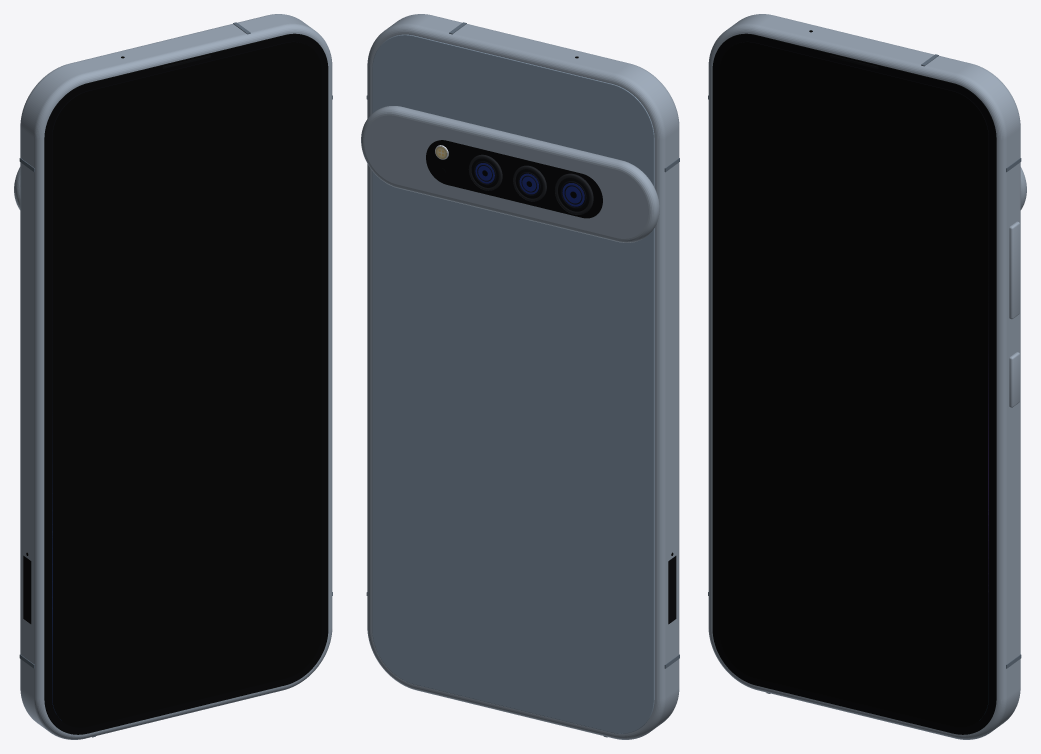
Rendered from nexphone-bar.glb.
3 renders of one model, left to right at view 1: azimuth 30°, elevation 25°; view 2: azimuth 150°, elevation 25°; view 3: azimuth 330°, elevation 25°, orthographic.
Bounding box in the file's own units: 0.7496 × 1.58 × 0.1293.
16 materials, 2 textured.
